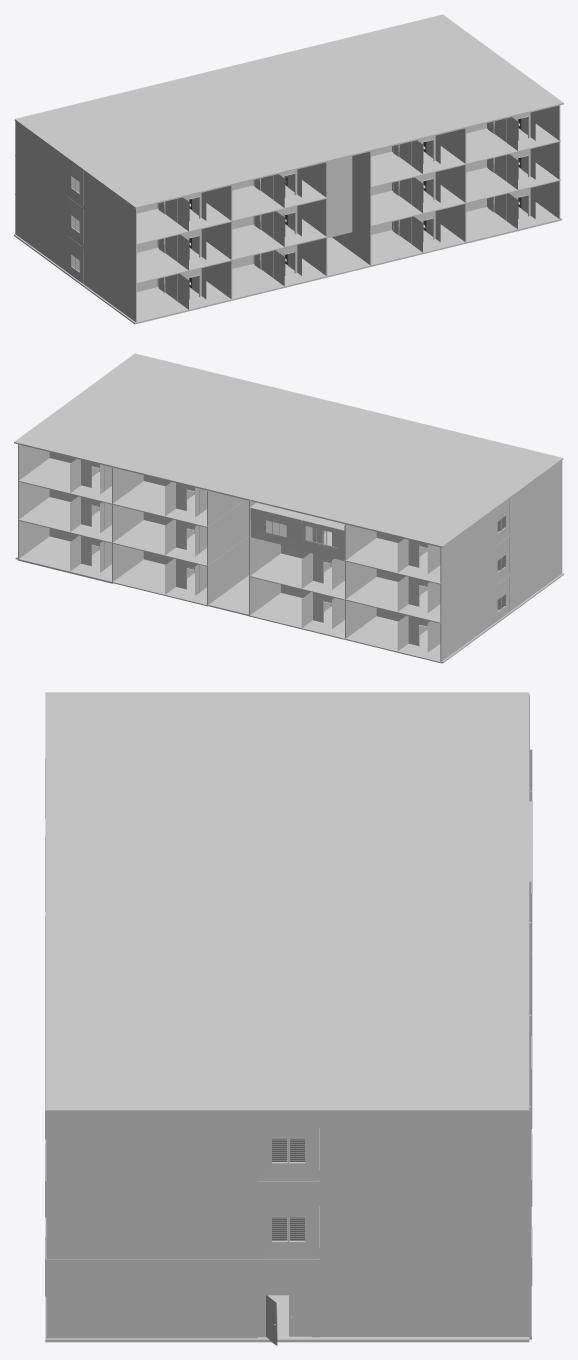
File: Apartment3D.fbx
The picture shows the model from 3 angles, top to bottom: view 1: azimuth 30°, elevation 25°; view 2: azimuth 150°, elevation 25°; view 3: azimuth 270°, elevation 25°; orthographic projection. The views are drawn at different scales.
Parts seen in each view (by area): view 1: Plane.013, Wall006.008, Wall006.018, Wall006.010, Plane.030, Wall006.007, Wall006.014, Wall006.001, Wall006.019, Plane.035, Plane.019, Plane.040 (+26 smaller); view 2: Plane.013, Wall006.018, Wall006.008, Wall006.012, Wall006.016, Wall006.002, Wall006.020, Plane.036, Plane.023, Plane.018, Plane.034, Plane.042 (+31 smaller); view 3: Plane.013, Wall006.020, Wall006.019, Plane.067, Plane.030, Plane.068, Cube.015, Plane.024, Plane.038, Wall004.017.
Boxes of the visible parts, <box> form: Plane.013: <box>14,14,563,208</box>; Wall006.008: <box>83,171,136,322</box>; Wall006.018: <box>15,121,67,271</box>; Wall006.010: <box>332,151,371,265</box>; Plane.030: <box>14,218,562,324</box>; Wall006.007: <box>204,185,232,299</box>; Wall006.014: <box>438,128,466,241</box>; Wall006.001: <box>299,162,327,275</box>; Wall006.019: <box>533,105,560,218</box>; Plane.035: <box>370,185,465,226</box>; Plane.019: <box>370,146,465,187</box>; Plane.040: <box>232,219,327,260</box>; Plane.013: <box>14,353,563,547</box>; Wall006.018: <box>440,510,493,662</box>; Wall006.008: <box>509,460,562,611</box>; Wall006.012: <box>207,490,248,604</box>; Wall006.016: <box>112,466,143,581</box>; Wall006.002: <box>345,523,376,638</box>; Wall006.020: <box>18,444,49,558</box>; Plane.036: <box>113,520,248,566</box>; Plane.023: <box>113,481,245,527</box>; Plane.018: <box>345,538,440,584</box>; Plane.034: <box>345,577,440,623</box>; Plane.042: <box>249,553,345,600</box>; Plane.013: <box>45,692,529,1112</box>; Wall006.020: <box>320,1106,531,1339</box>; Wall006.019: <box>46,1113,257,1337</box>; Plane.067: <box>257,1118,319,1180</box>; Plane.030: <box>45,1295,529,1342</box>; Plane.068: <box>257,1199,319,1258</box>; Cube.015: <box>257,1275,320,1337</box>; Plane.024: <box>256,1128,319,1199</box>; Plane.038: <box>256,1206,319,1277</box>; Wall004.017: <box>289,1295,311,1336</box>.
Size of the model in its own units: 4378 by 1132 by 2139.
